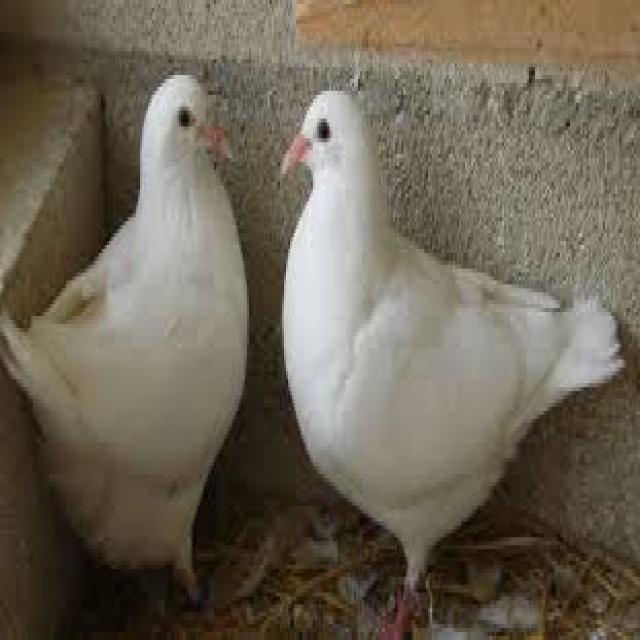pigeon: (275, 66, 640, 636), (0, 68, 252, 640)
